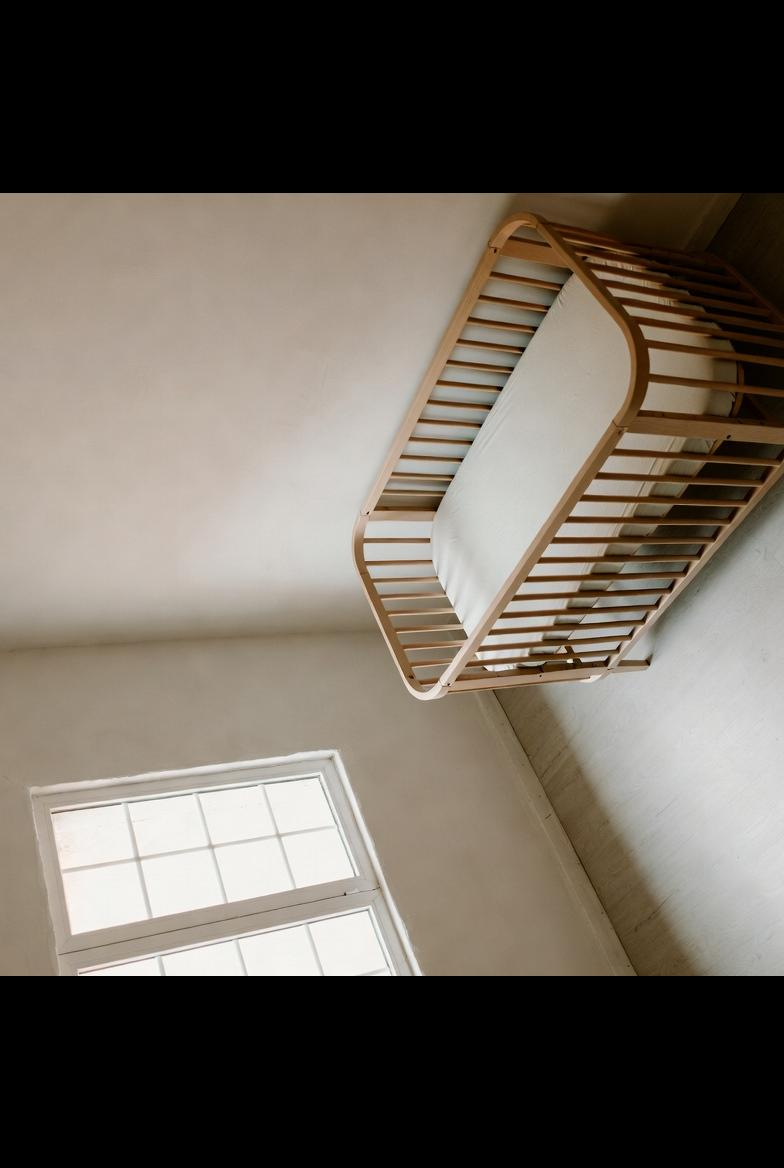crib: (353, 212, 784, 698)
